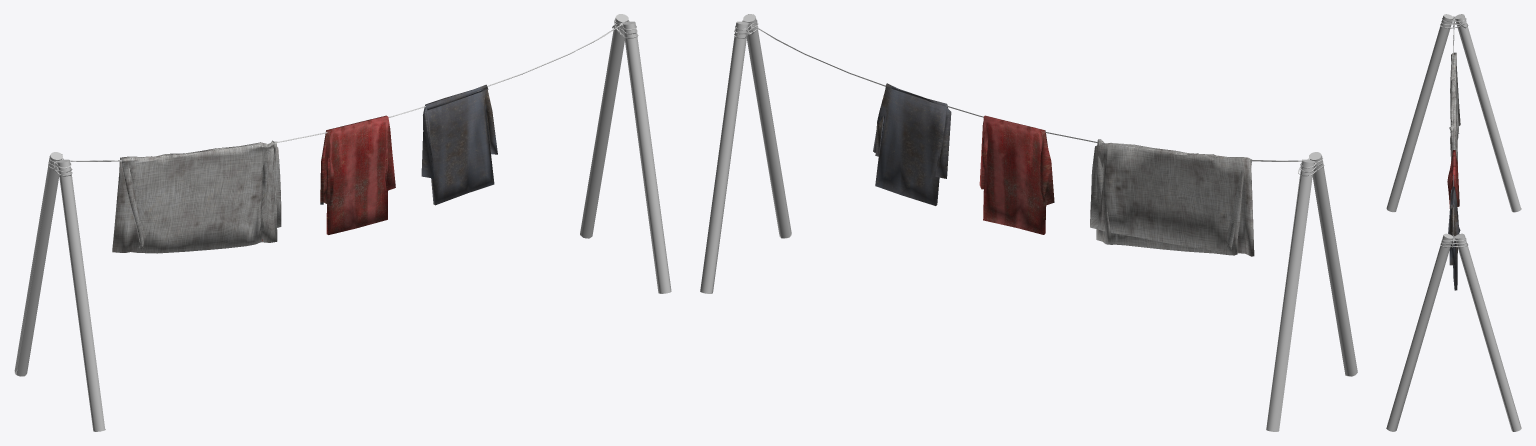
File: hanger.fbx
The picture shows the model from 3 angles, left to right: view 1: azimuth 30°, elevation 25°; view 2: azimuth 150°, elevation 25°; view 3: azimuth 270°, elevation 25°; orthographic projection. The views are drawn at different scales.
Parts seen in each view (by area): view 1: defaultMaterial.021; view 2: defaultMaterial.021; view 3: defaultMaterial.021.
Part boxes in pixels (box(x1,y1,x2,y2)): defaultMaterial.021: box(14, 14, 671, 431); defaultMaterial.021: box(700, 14, 1357, 431); defaultMaterial.021: box(1386, 14, 1521, 431).
Size of the model in its own units: 289 by 118 by 73.78.
